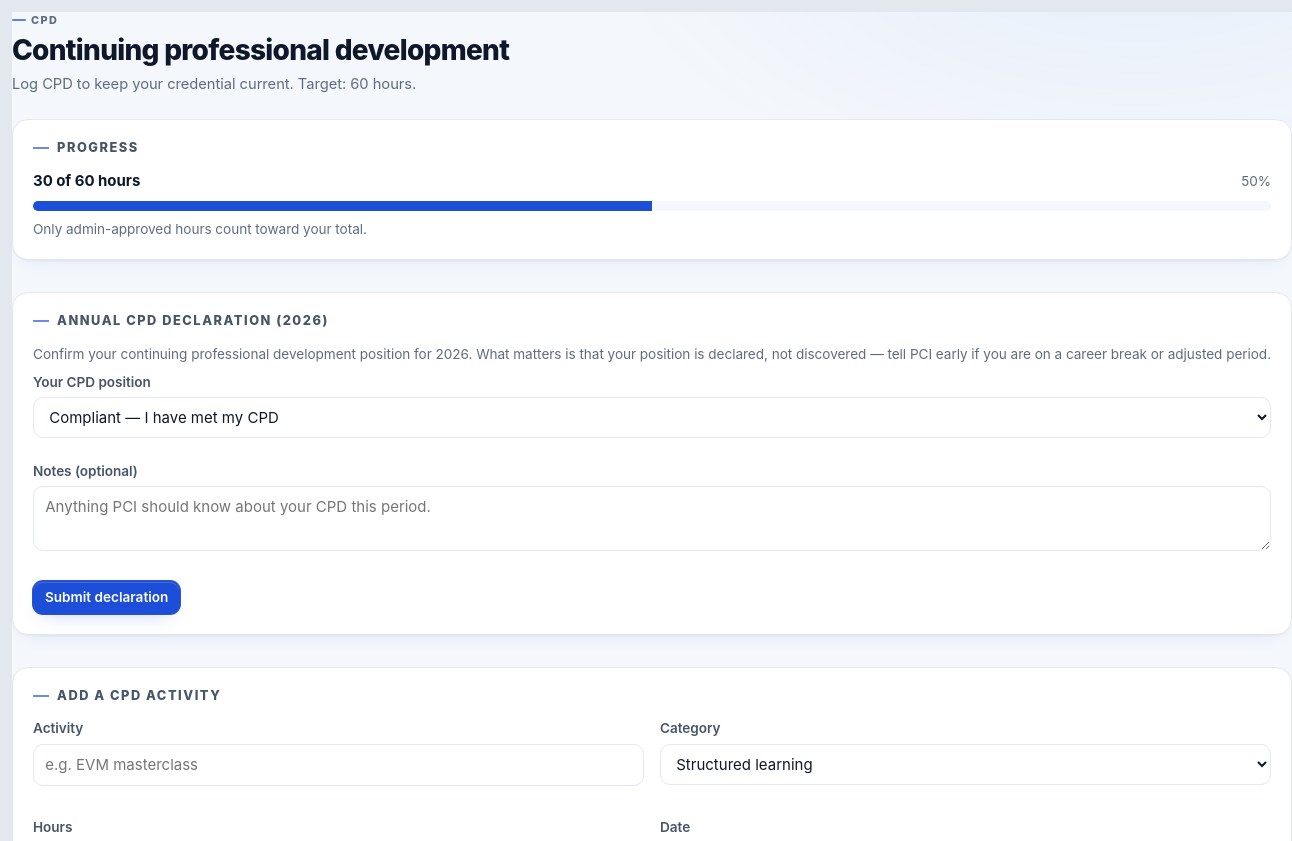
it: Cpd (continuing professional development) › shows the mandatory-AI-currency hint only when that category is selected
Expected: the text "Mandatory AI-currency component of the framework." is not shown
Select "AI currency" in the dropdown labelled "Category" at (966,764), box [660, 744, 1271, 785]
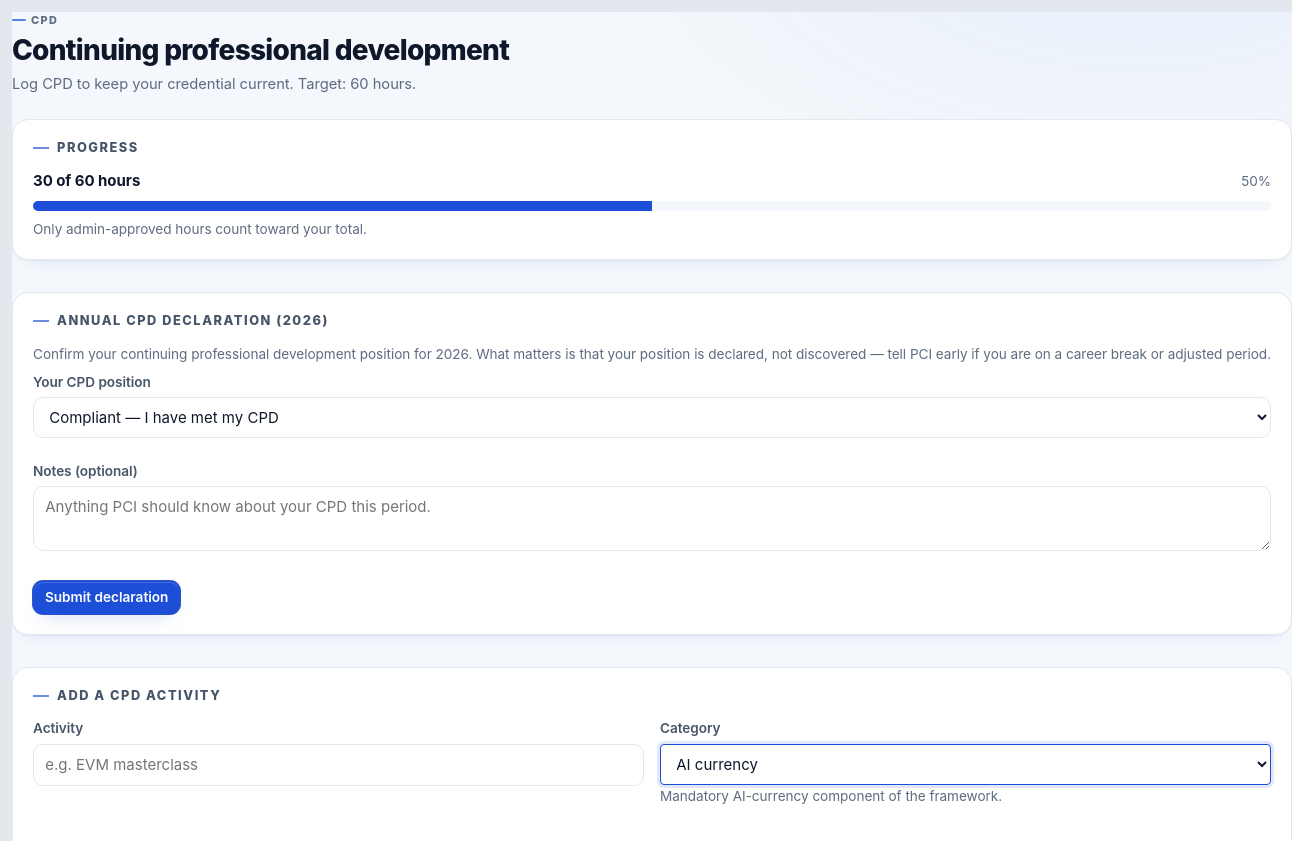
Result: the text "Mandatory AI-currency component of the framework." is shown at [660, 788, 1002, 804]
